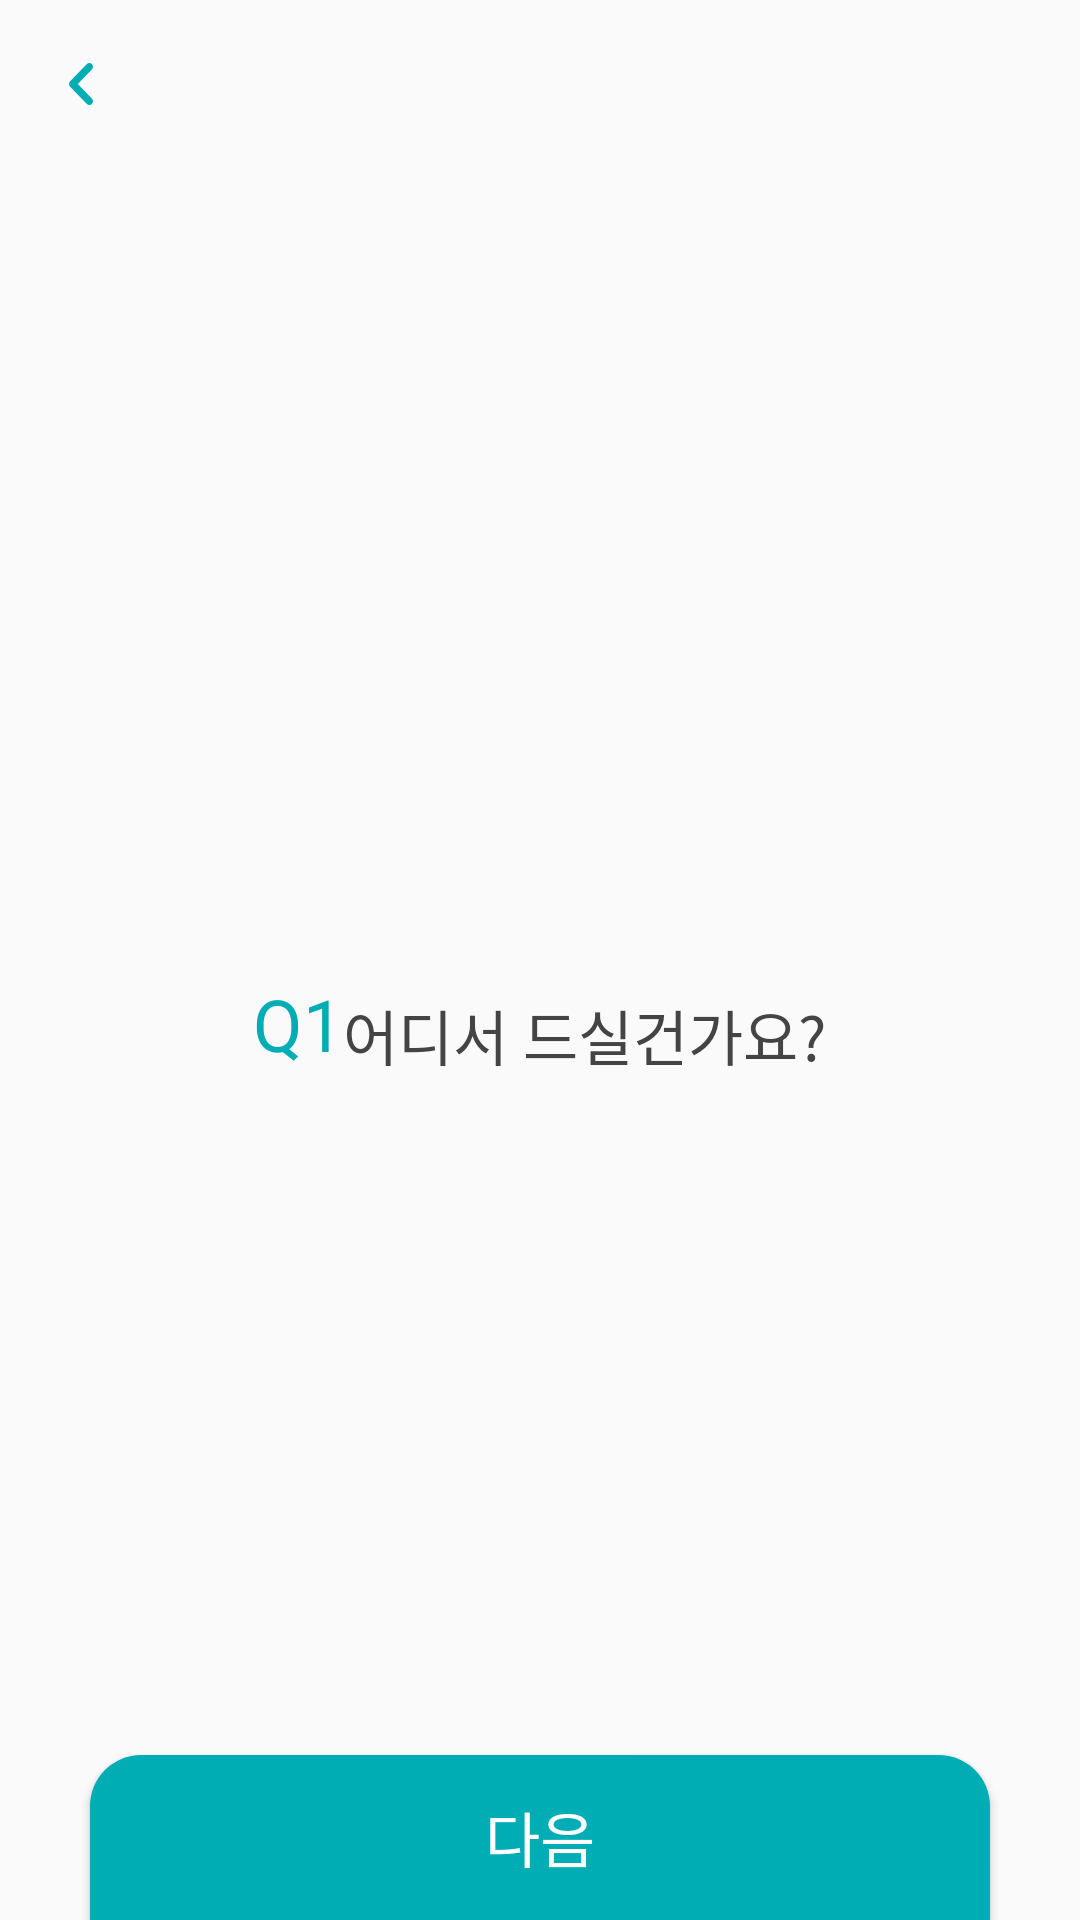

Icons on this 1080*1920 Android screen, each with the point to tap as (x=x, y=y):
back: (x=81, y=84)
